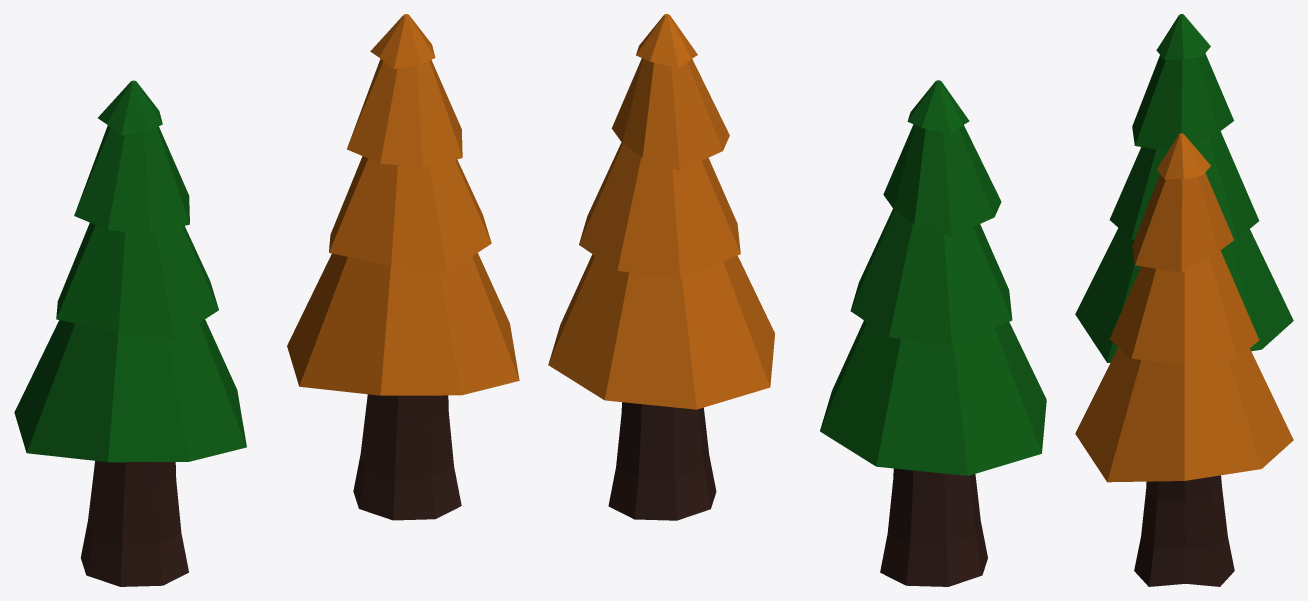
Rendered from ArvoresNovas.fbx.
The picture shows the model from 3 angles, left to right: view 1: azimuth 30°, elevation 25°; view 2: azimuth 150°, elevation 25°; view 3: azimuth 270°, elevation 25°; orthographic projection. The views are drawn at different scales.
Parts seen in each view (by area): view 1: Arvore.001, Arvore; view 2: Arvore, Arvore.001; view 3: Arvore.001, Arvore.
Boxes of the visible parts, box(x1,y1,x2,y2) form: Arvore.001: box(287, 14, 519, 520); Arvore: box(14, 80, 246, 586); Arvore: box(820, 80, 1046, 586); Arvore.001: box(548, 14, 774, 520); Arvore.001: box(1075, 133, 1293, 586); Arvore: box(1075, 14, 1293, 362).
Bounding box in the file's own units: 718 × 691 × 314.
